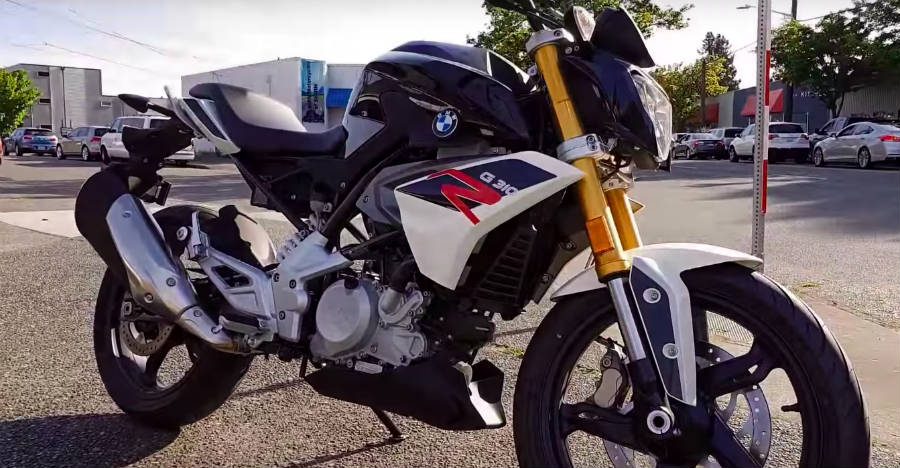bike: (71, 10, 894, 465)
car: (818, 119, 899, 177), (727, 110, 808, 165), (673, 124, 727, 167), (63, 120, 110, 160), (11, 121, 58, 159)
